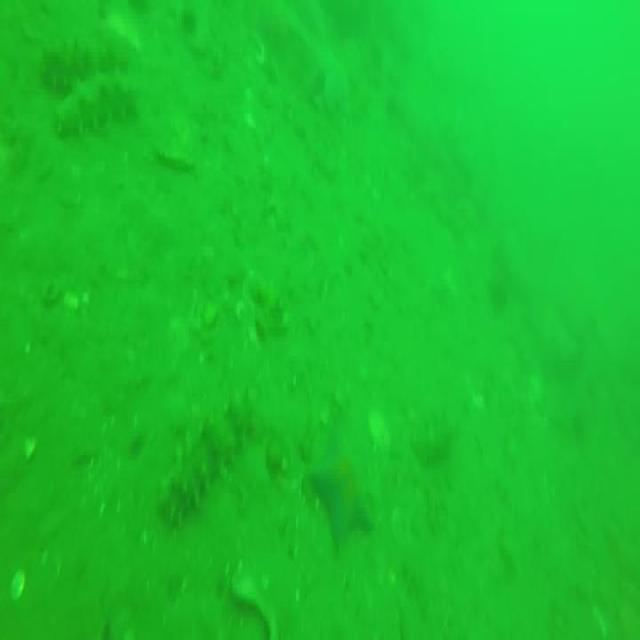holothurian: (160, 392, 263, 526), (54, 81, 136, 131), (37, 40, 126, 86)
scallop: (368, 410, 388, 446), (6, 567, 26, 599), (22, 434, 36, 460)
starfish: (312, 425, 382, 548)
